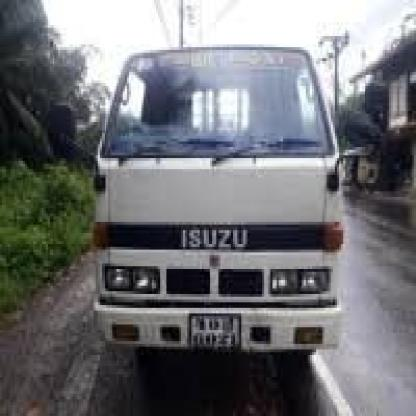Lorry front: (44, 37, 390, 377)
number plate: (188, 313, 242, 352)
